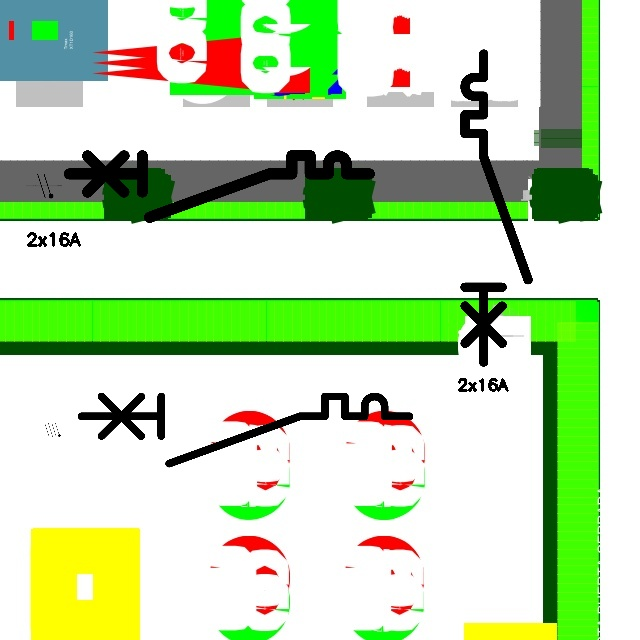interruptor_termomagnetico: (73, 388, 418, 472), (457, 46, 536, 370), (61, 148, 376, 225)
